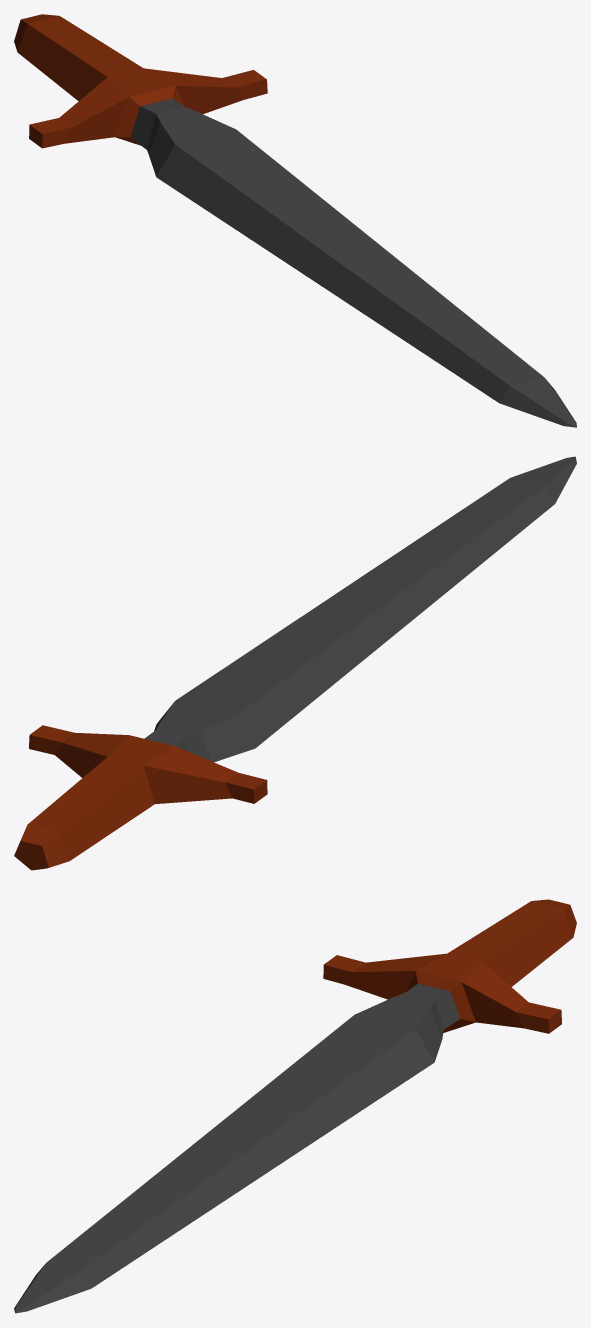
File: Wojownik_Sword.FBX
The picture shows the model from 3 angles, top to bottom: view 1: azimuth 30°, elevation 25°; view 2: azimuth 150°, elevation 25°; view 3: azimuth 330°, elevation 25°; orthographic projection.
Parts seen in each view (by area): view 1: Wojownik_Sword; view 2: Wojownik_Sword; view 3: Wojownik_Sword.
Part boxes in pixels (x1,y1,x2,y2): Wojownik_Sword: (14, 14, 576, 427); Wojownik_Sword: (14, 456, 576, 870); Wojownik_Sword: (14, 899, 576, 1313).
Size of the model in its own units: 6.35 by 1.56 by 26.57.
